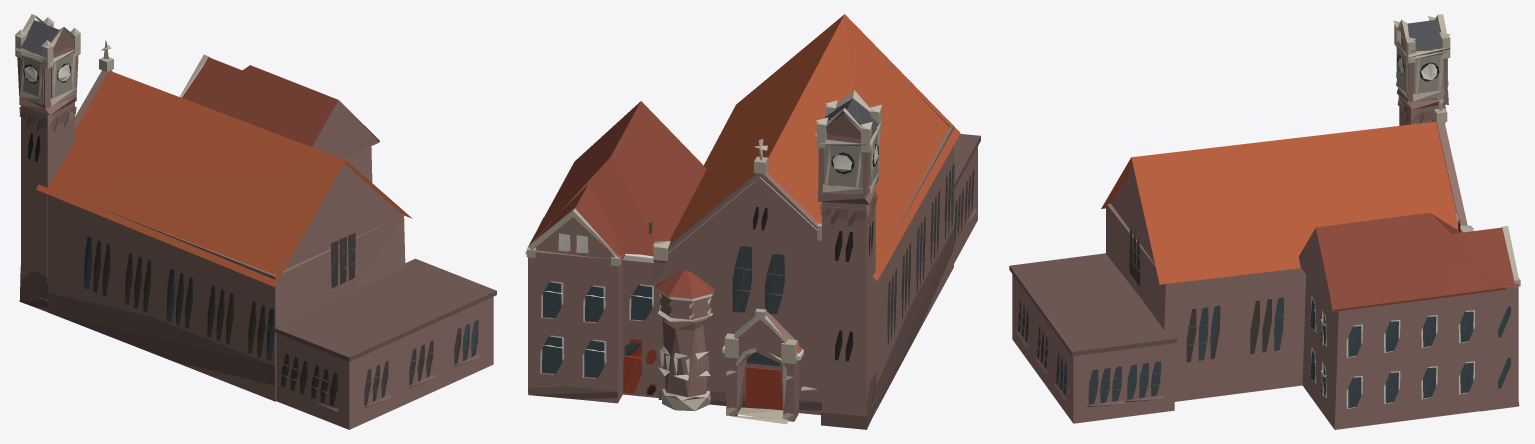
File: petrus-en-paulus-kerk.lod1.glb
3 renders of one model, left to right at view 1: azimuth 30°, elevation 25°; view 2: azimuth 150°, elevation 25°; view 3: azimuth 270°, elevation 25°, orthographic. The views are drawn at different scales.
Visible parts, largest first — view 1: petrus-en-paulus-kerk; view 2: petrus-en-paulus-kerk; view 3: petrus-en-paulus-kerk.
Boxes of the visible parts, x1,y1,x2,y2 form: petrus-en-paulus-kerk: (14,14,496,429); petrus-en-paulus-kerk: (525,14,980,429); petrus-en-paulus-kerk: (1009,14,1520,429).
Bounding box in the file's own units: 24.67 × 21.13 × 35.29.
